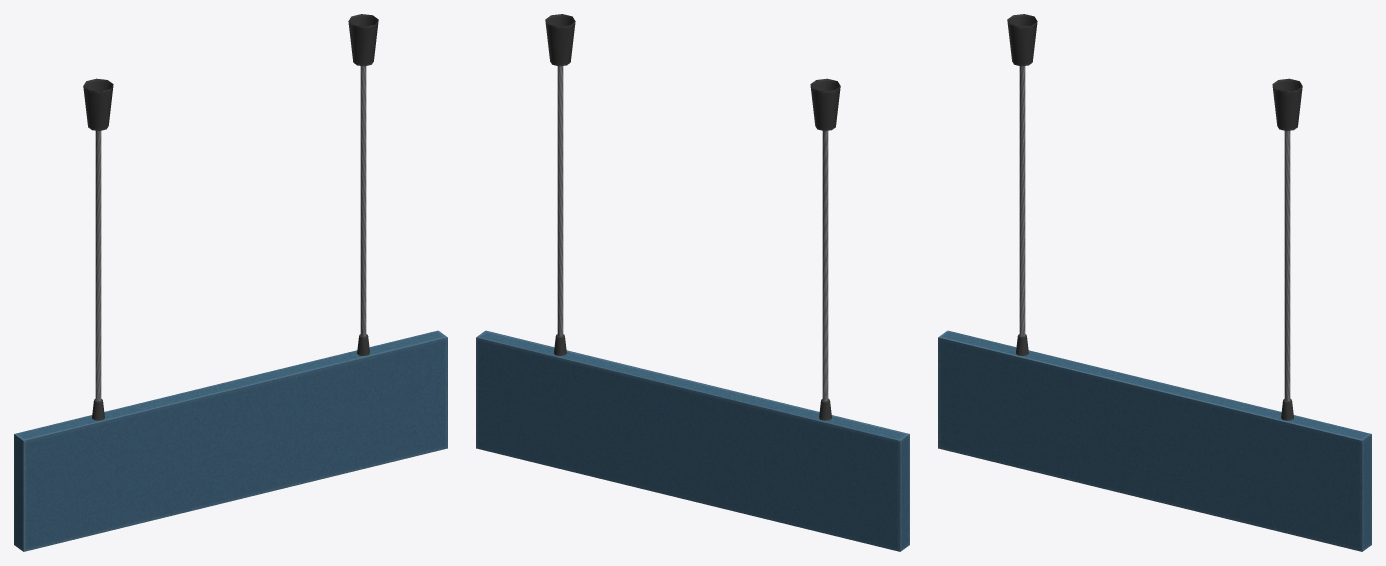
File: hanging_hospital_sign.dae
3 renders of one model, left to right at view 1: azimuth 30°, elevation 25°; view 2: azimuth 150°, elevation 25°; view 3: azimuth 330°, elevation 25°, orthographic.
Visible parts, largest first — view 1: low; view 2: low; view 3: low.
Boxes of the visible parts, box(x1,y1,x2,y2) form: low: box(14, 14, 447, 551); low: box(476, 14, 909, 551); low: box(938, 14, 1371, 551).
Bounding box in the file's own units: 1 × 1 × 0.0577.
